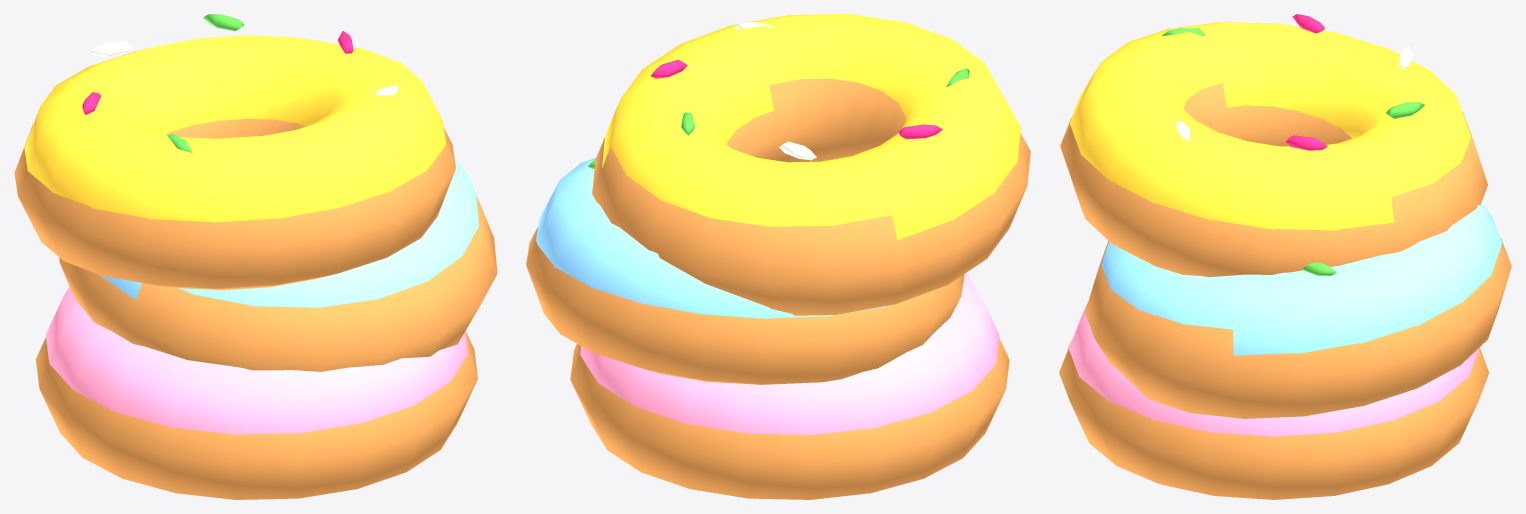
The model's file is donuts.glb.
3 renders of one model, left to right at view 1: azimuth 30°, elevation 25°; view 2: azimuth 150°, elevation 25°; view 3: azimuth 270°, elevation 25°, orthographic. The views are drawn at different scales.
Parts seen in each view (by area): view 1: item; view 2: item; view 3: item.
Boxes of the visible parts, <box> form: item: <box>14,14,497,499</box>; item: <box>526,14,1030,499</box>; item: <box>1059,14,1511,499</box>.
Bounding box in the file's own units: 0.406 × 0.3217 × 0.3747.
Materials: 1 (1 with a texture image).
